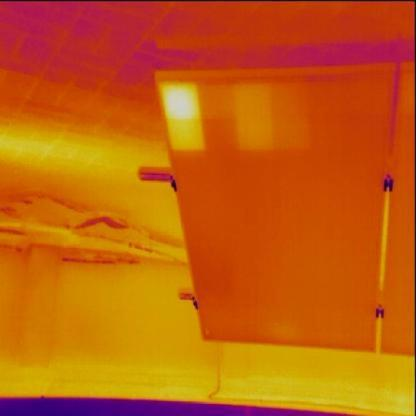anomaly: (157, 78, 208, 157), (229, 82, 277, 157)
